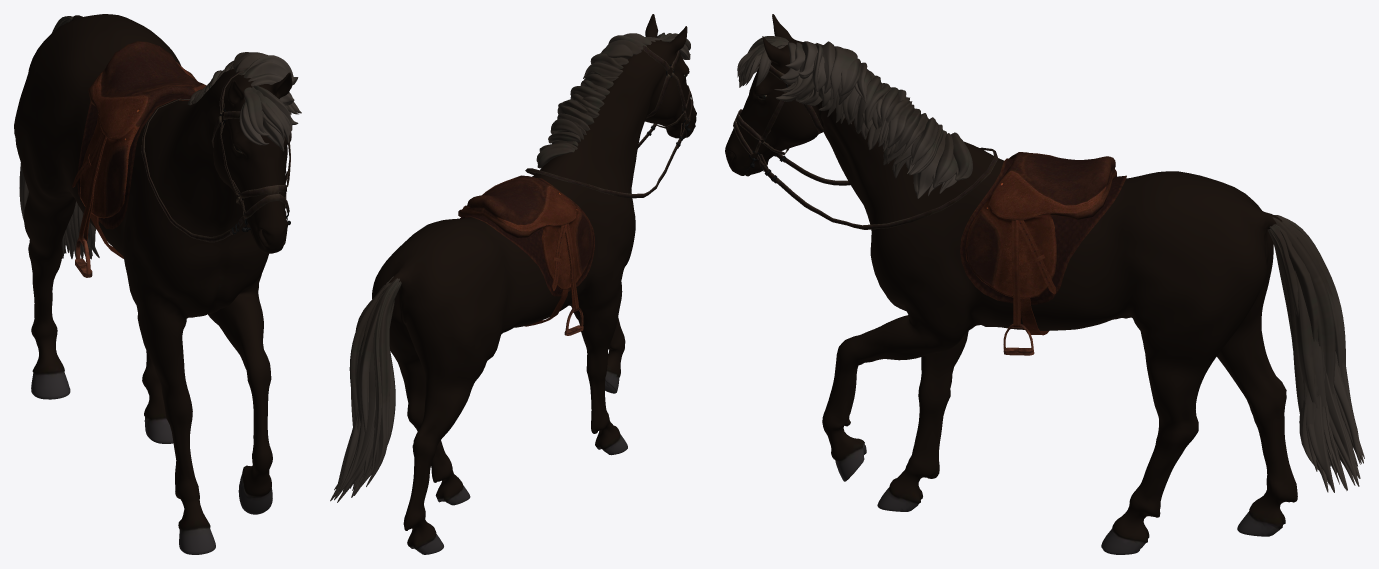
File: COSSACK_SPUTNIK_1#40.glb
The picture shows the model from 3 angles, left to right: view 1: azimuth 30°, elevation 25°; view 2: azimuth 150°, elevation 25°; view 3: azimuth 270°, elevation 25°; orthographic projection. The views are drawn at different scales.
Visible parts, largest first — view 1: Hair.6-Horse_Sub, Hair.7-Reigns_Sub, Hair.4-Reigns_Sub, Hair.5-Reigns_Sub; view 2: Hair.6-Horse_Sub, Hair.4-Reigns_Sub, Hair.7-Reigns_Sub, Hair.5-Reigns_Sub; view 3: Hair.6-Horse_Sub, Hair.4-Reigns_Sub, Hair.7-Reigns_Sub, Hair.5-Reigns_Sub.
Boxes of the visible parts, left/top/right/bottom form: Hair.6-Horse_Sub: left=14, top=14, right=292, bottom=554; Hair.7-Reigns_Sub: left=72, top=41, right=206, bottom=277; Hair.4-Reigns_Sub: left=19, top=15, right=301, bottom=259; Hair.5-Reigns_Sub: left=141, top=71, right=290, bottom=242; Hair.6-Horse_Sub: left=372, top=14, right=696, bottom=554; Hair.4-Reigns_Sub: left=330, top=32, right=690, bottom=502; Hair.7-Reigns_Sub: left=458, top=175, right=594, bottom=335; Hair.5-Reigns_Sub: left=525, top=45, right=693, bottom=198; Hair.6-Horse_Sub: left=725, top=14, right=1297, bottom=554; Hair.4-Reigns_Sub: left=737, top=36, right=1364, bottom=492; Hair.7-Reigns_Sub: left=960, top=152, right=1126, bottom=355; Hair.5-Reigns_Sub: left=733, top=43, right=998, bottom=229.
Size of the model in its own units: 4.31 by 11.7 by 14.11.
Materials: 4 (4 with a texture image).
